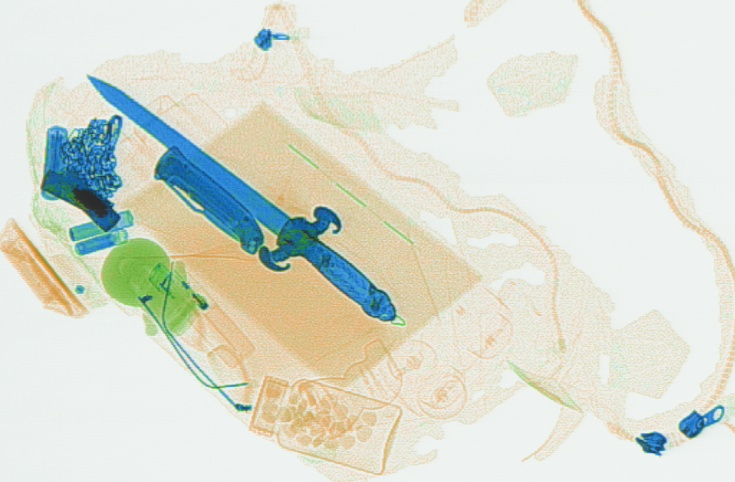knife: (86, 72, 398, 323), (147, 142, 264, 256)
lighter: (147, 256, 254, 369)
